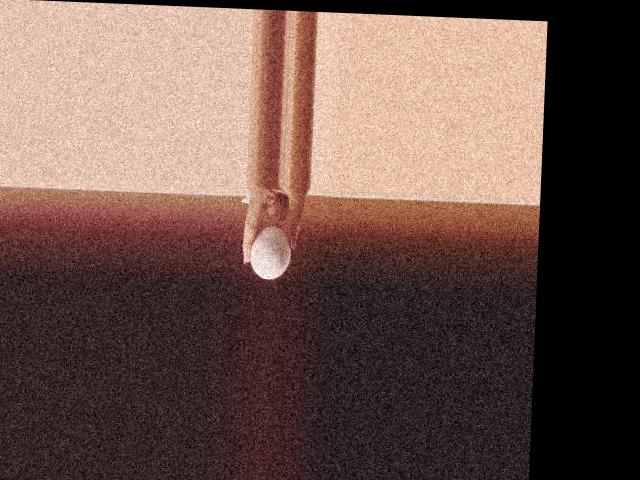egg: (250, 224, 292, 279)
